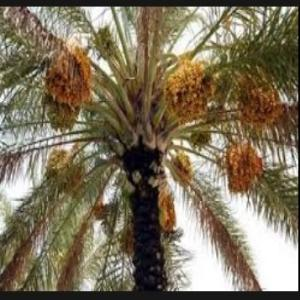palm tree: (0, 4, 298, 290)
